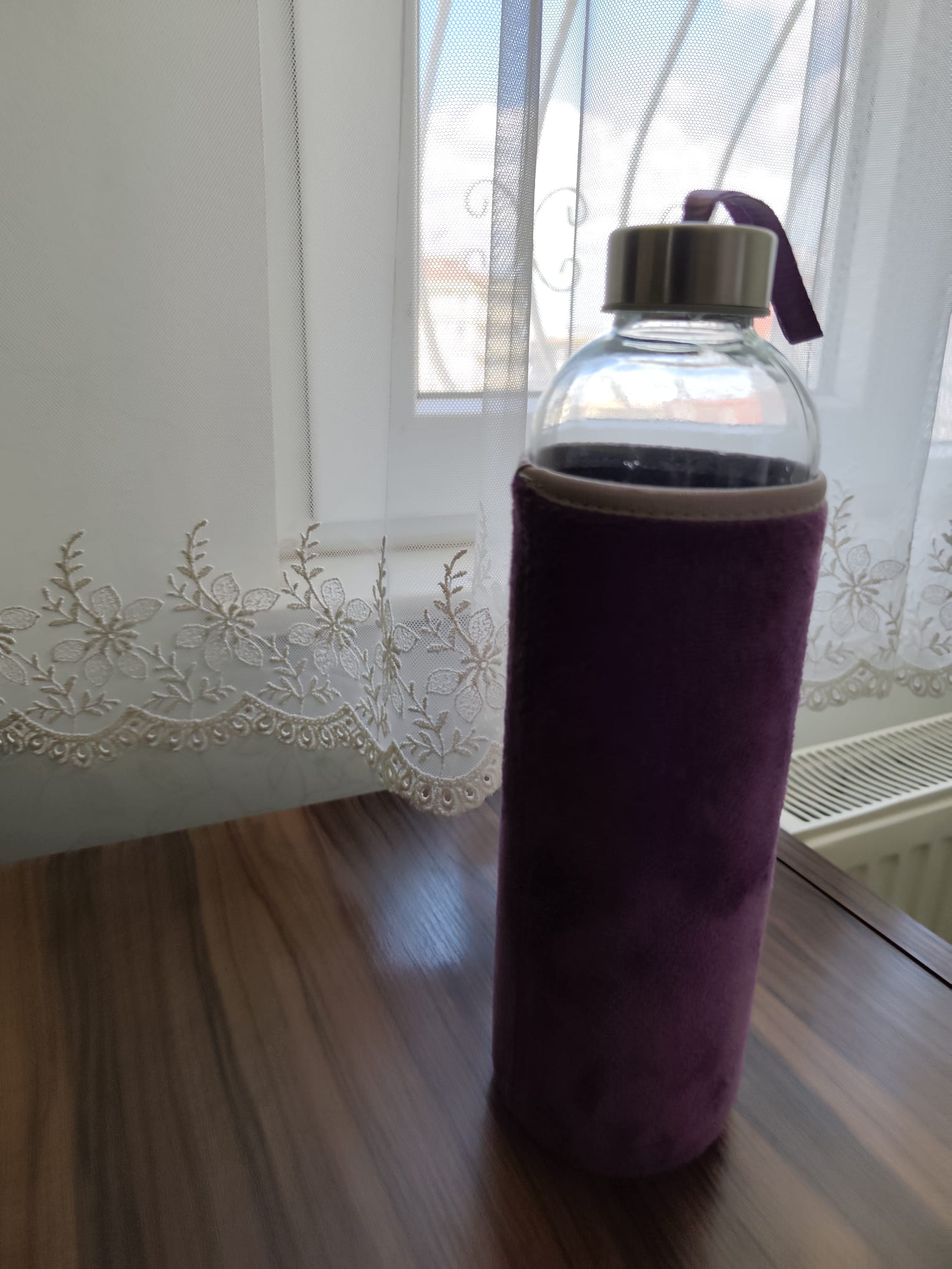su_sisesi: (488, 172, 837, 1210)
